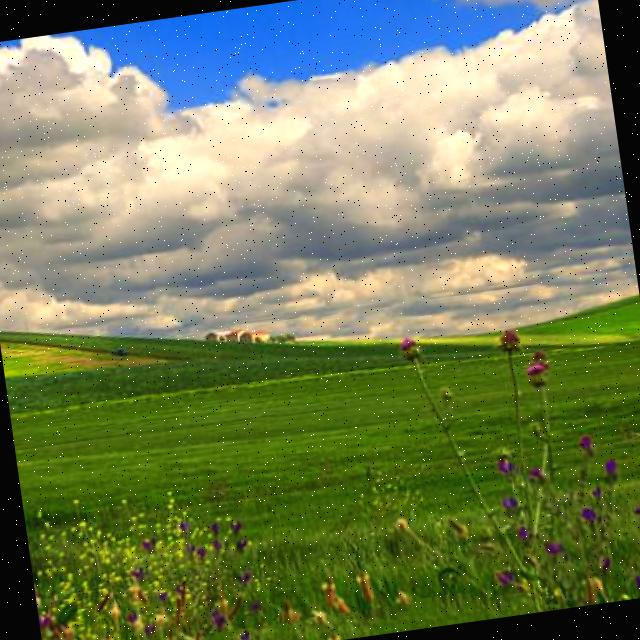Ns: (1, 1, 634, 337)
